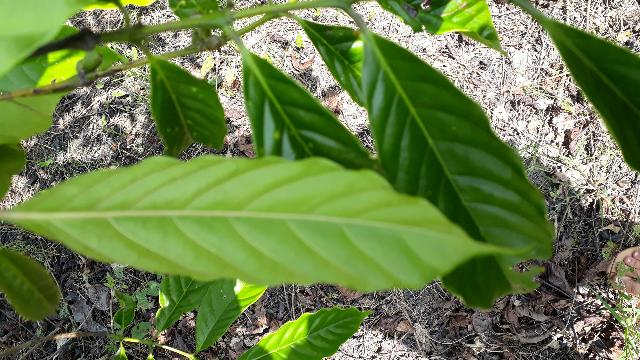healthy: (7, 156, 532, 292)
